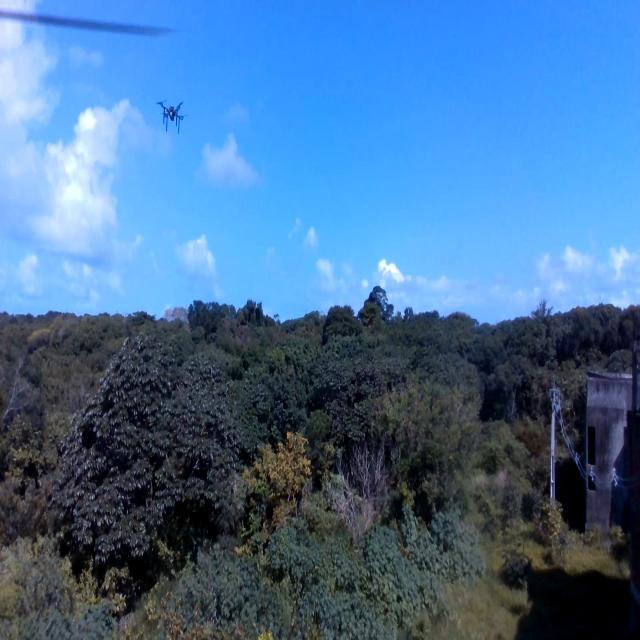-uav-: (155, 102, 186, 135)
